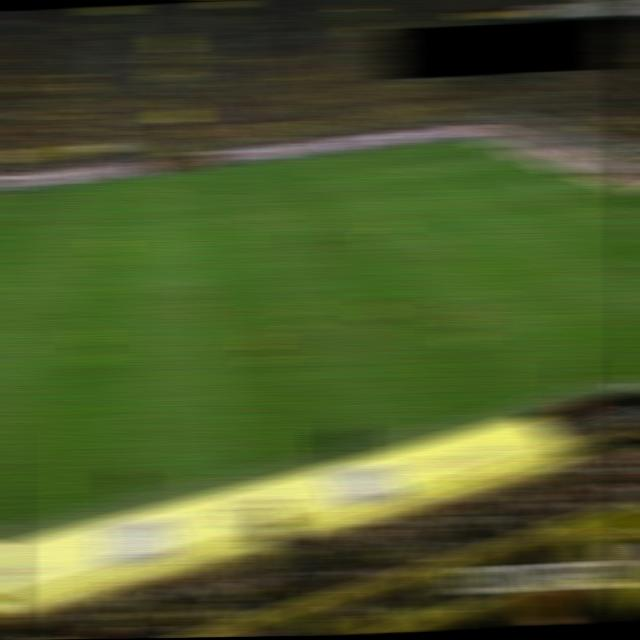bigarea_bottom_inner: (587, 262, 616, 273)
bigarea_top_inner: (408, 159, 437, 170)
bigarea_top_outter: (497, 148, 526, 160)
bottom_arc_area_intersection: (505, 214, 534, 226)
corner: (457, 134, 487, 146)
halfcircle_bottom: (185, 274, 214, 285)
halfcircle_top: (175, 213, 205, 225)
midline_bottom_intersection: (214, 465, 246, 481)
midline_top_intersection: (169, 168, 198, 180)
smallarea_bottom_inner: (599, 208, 628, 220)
smallarea_top_inner: (508, 168, 538, 180)
smallarea_top_outter: (539, 164, 569, 175)
top_arc_area_intersection: (445, 181, 475, 192)
